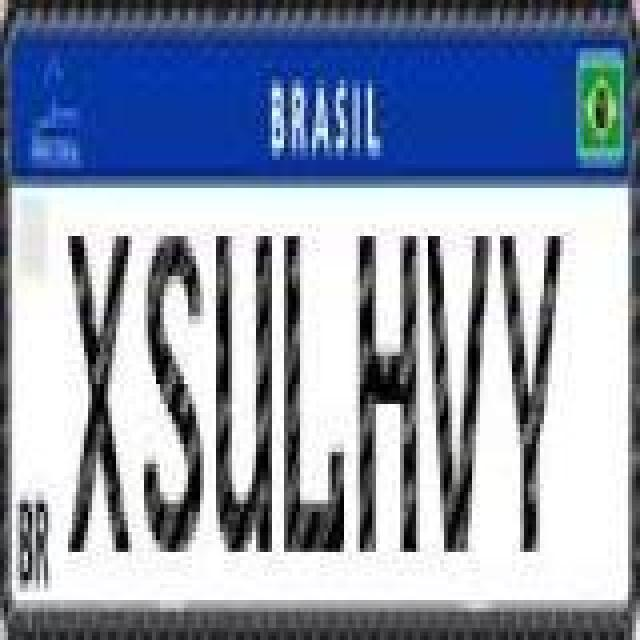H: (356, 230, 420, 554)
L: (280, 230, 344, 554)
S: (144, 230, 208, 554)
U: (214, 230, 274, 554)
V: (424, 230, 488, 554)
X: (66, 230, 134, 554)
Y: (494, 230, 562, 554)
